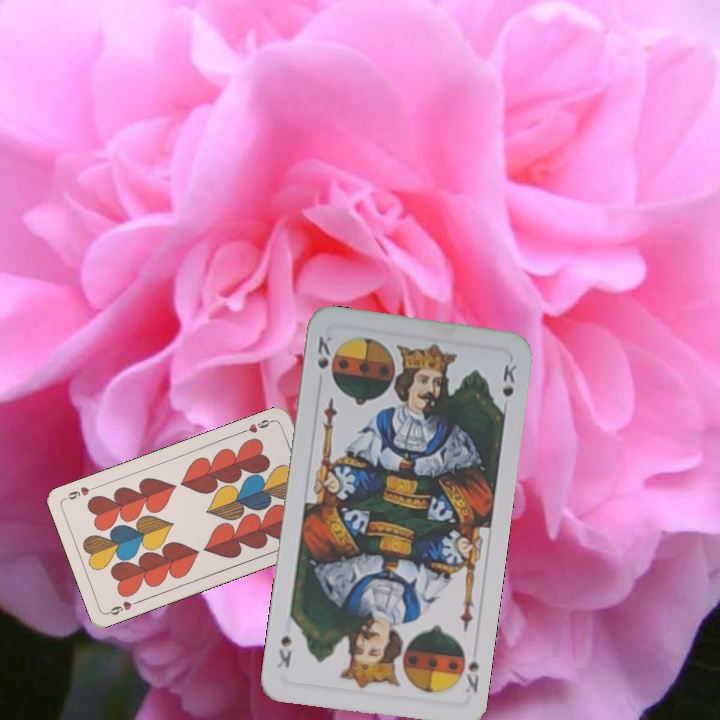H9: (103, 596, 143, 618), (237, 415, 277, 436)
SK: (460, 656, 482, 696), (313, 332, 334, 372)
